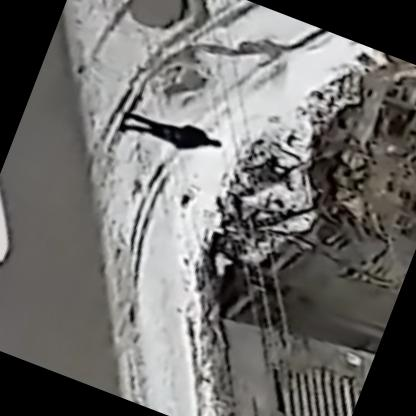Human Body: (106, 89, 233, 174)
